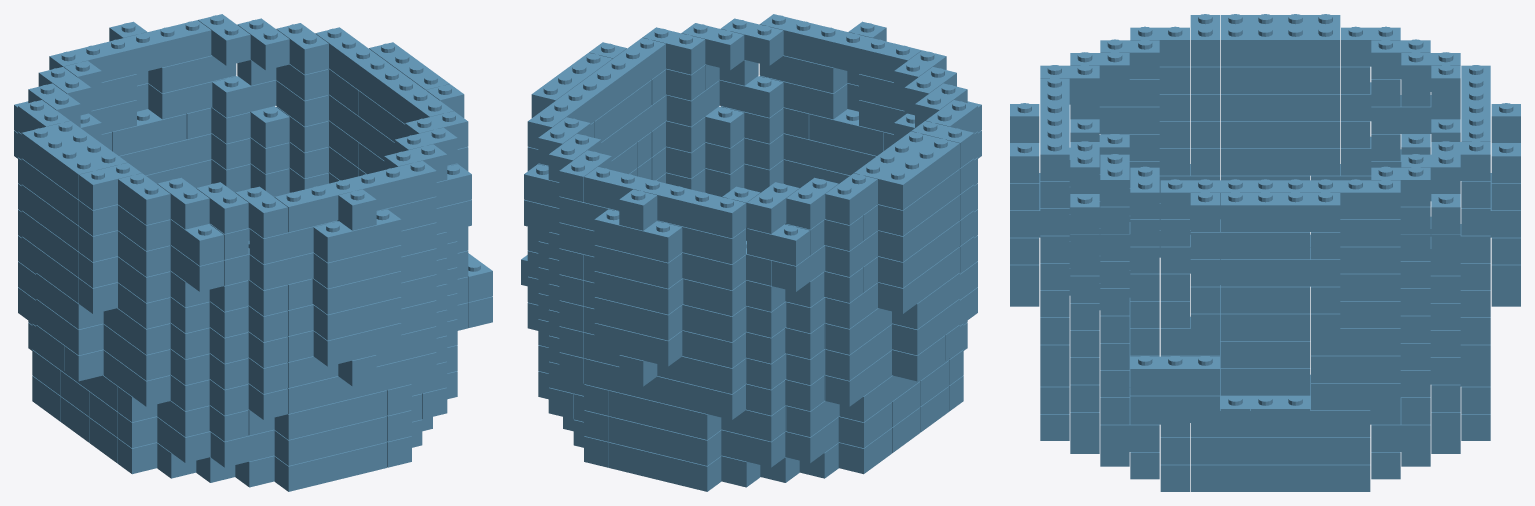
The model's file is 182_mug_L2.glb.
3 views of the same model, side by side, from view 1: azimuth 30°, elevation 25°; view 2: azimuth 150°, elevation 25°; view 3: azimuth 270°, elevation 25° (orthographic). The views are drawn at different scales.
Size of the model in its own units: 15.98 by 11.13 by 16.98.
